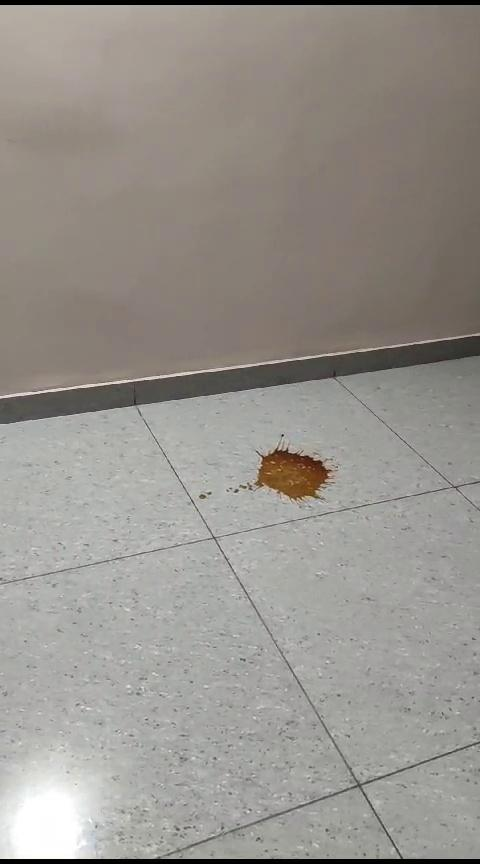dirty_floor: (195, 437, 340, 513)
